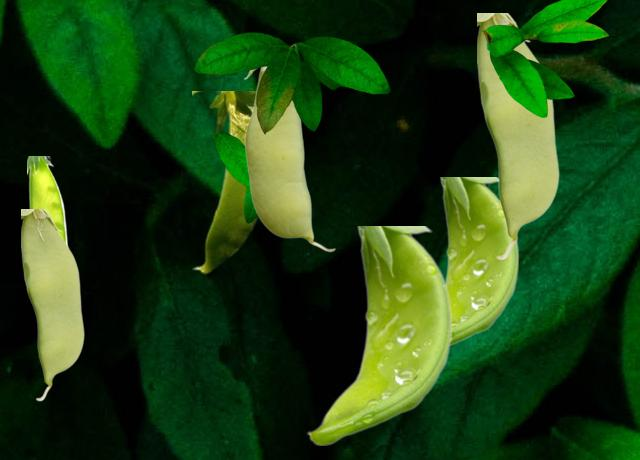pea: (306, 226, 450, 444), (477, 13, 558, 259), (243, 67, 335, 251), (439, 177, 517, 345), (192, 91, 259, 273), (21, 209, 83, 400), (27, 156, 67, 243)
